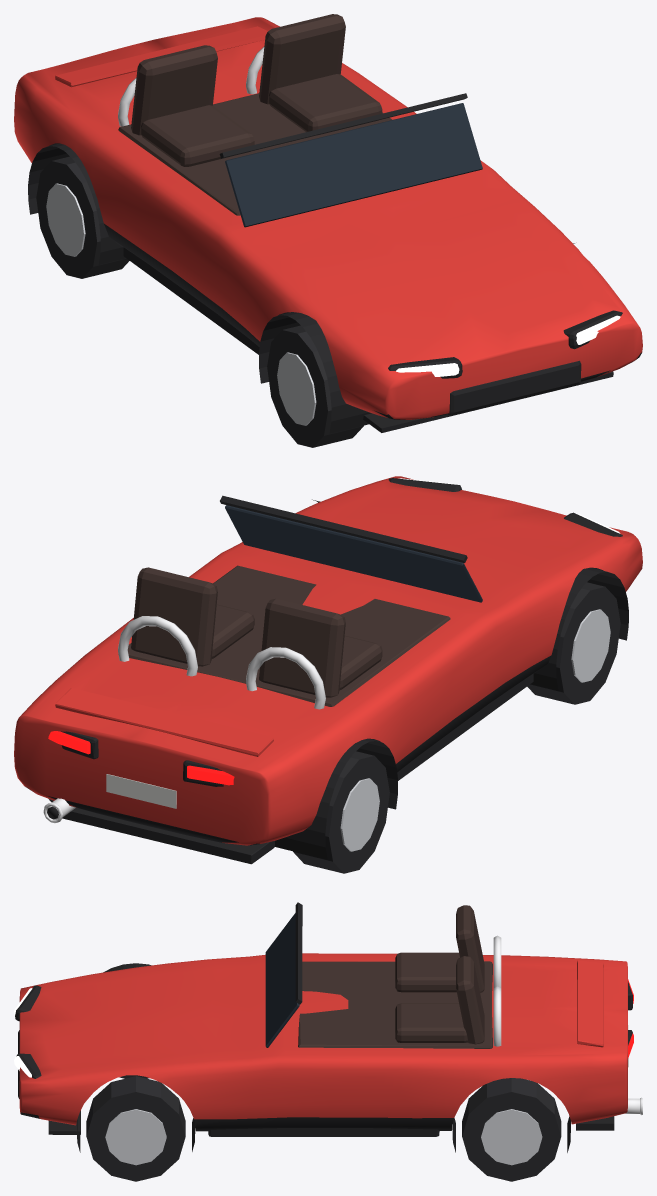
Rendered from velora_lod.glb.
3 renders of one model, top to bottom at view 1: azimuth 30°, elevation 25°; view 2: azimuth 150°, elevation 25°; view 3: azimuth 270°, elevation 25°, orthographic. The views are drawn at different scales.
Visible parts, largest first — view 1: body, wheel_fr, wheel_rr; view 2: body, wheel_rr, wheel_fr; view 3: body, wheel_fl, wheel_rl.
Boxes of the visible parts, x1,y1,x2,y2 form: body: (14, 14, 642, 433); wheel_fr: (267, 325, 363, 447); wheel_rr: (36, 156, 129, 278); body: (14, 476, 642, 864); wheel_rr: (293, 751, 389, 873); wheel_fr: (527, 582, 620, 704); body: (14, 902, 642, 1152); wheel_fl: (86, 1076, 185, 1181); wheel_rl: (462, 1078, 561, 1181).
Size of the model in its own units: 1.86 by 1.33 by 4.19.
